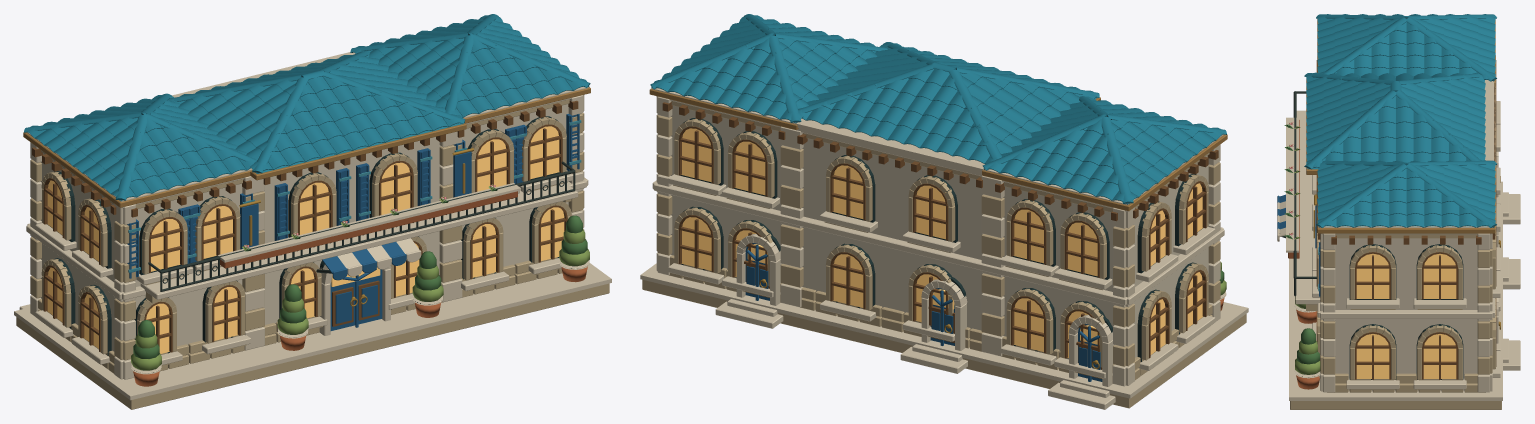
3 views of the same model, side by side, from view 1: azimuth 30°, elevation 25°; view 2: azimuth 150°, elevation 25°; view 3: azimuth 270°, elevation 25° (orthographic). The views are drawn at different scales.
Parts seen in each view (by area): view 1: harbor_skyscraper_1_geometry, harbor_skyscraper_1_geometry ceramic; view 2: harbor_skyscraper_1_geometry, harbor_skyscraper_1_geometry ceramic; view 3: harbor_skyscraper_1_geometry, harbor_skyscraper_1_geometry ceramic.
Boxes of the visible parts, x1,y1,x2,y2 form: harbor_skyscraper_1_geometry: (14,52,611,409); harbor_skyscraper_1_geometry ceramic: (24,14,590,272); harbor_skyscraper_1_geometry: (640,88,1248,409); harbor_skyscraper_1_geometry ceramic: (650,14,1226,204); harbor_skyscraper_1_geometry: (1277,19,1520,409); harbor_skyscraper_1_geometry ceramic: (1304,14,1496,291).
Size of the model in its own units: 2.14 by 1.01 by 1.02.
